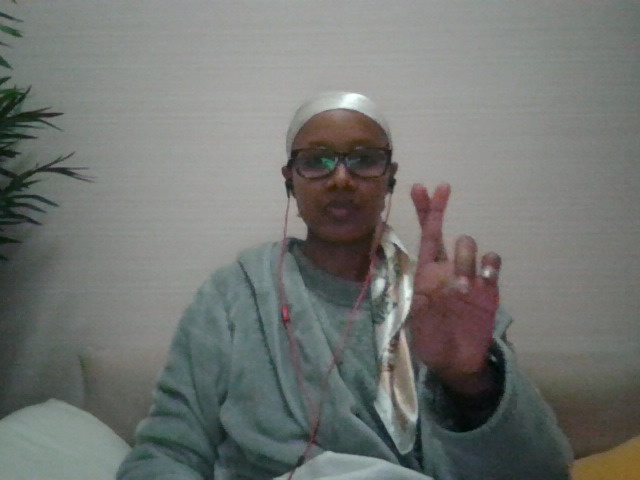goodluck: (401, 177, 517, 396)
